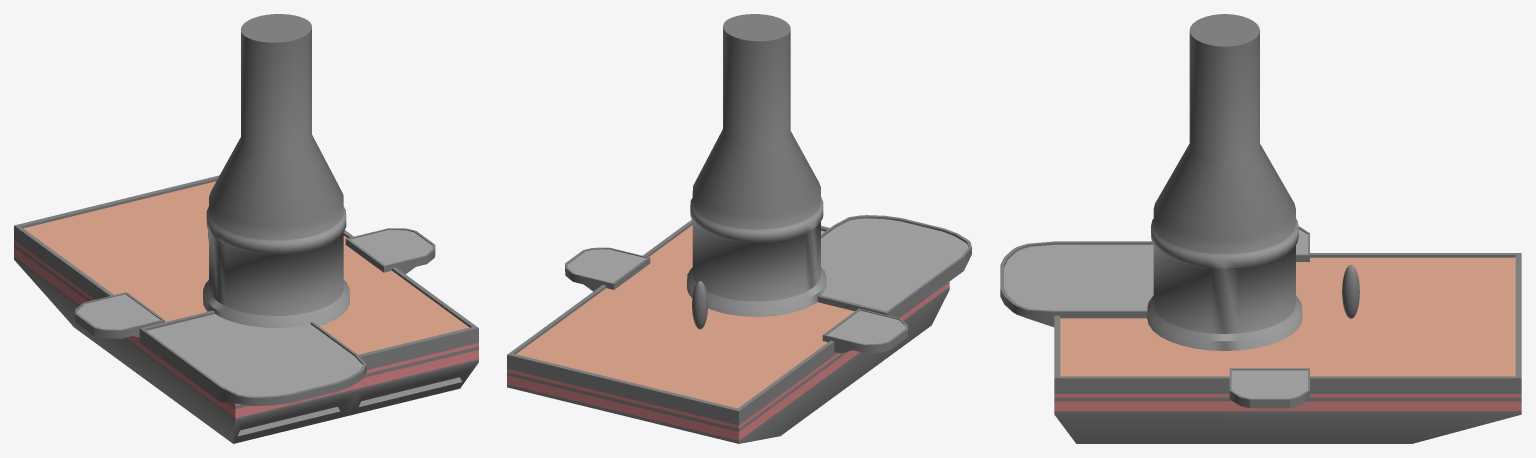
Rendered from Shuttle0.1.fbx.
3 views of the same model, side by side, from view 1: azimuth 30°, elevation 25°; view 2: azimuth 150°, elevation 25°; view 3: azimuth 270°, elevation 25° (orthographic). The views are drawn at different scales.
Visible parts, largest first — view 1: Cube; view 2: Cube; view 3: Cube.
Part boxes in pixels (<box>): Cube: <box>14,14,478,443</box>; Cube: <box>507,14,971,443</box>; Cube: <box>1000,14,1521,443</box>.
Size of the model in its own units: 280 by 264 by 351.
